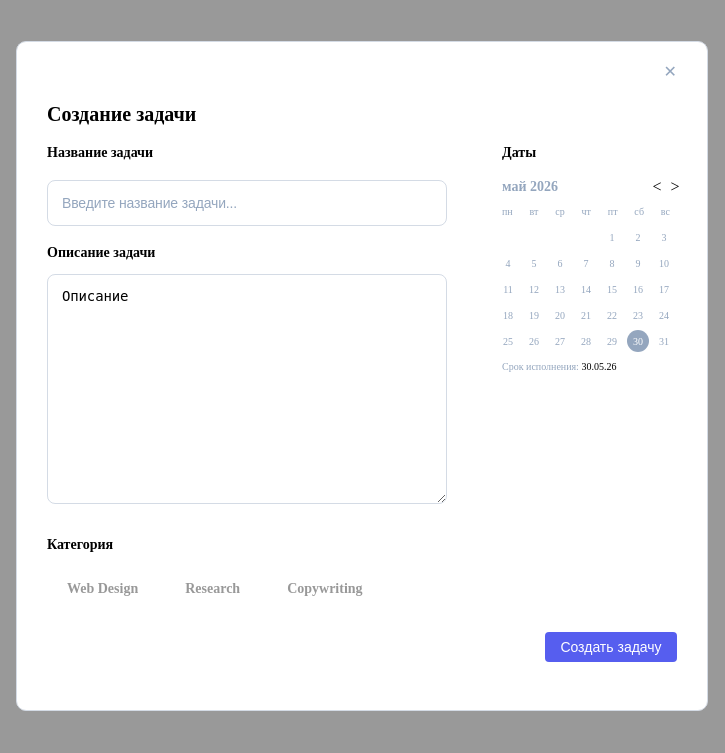
Scenario: PopNewCard — модальное окно создания задачи › показывает ошибку при отправке пустого названия
Click the button "Создать задачу" at [611, 647], box [545, 632, 677, 662]
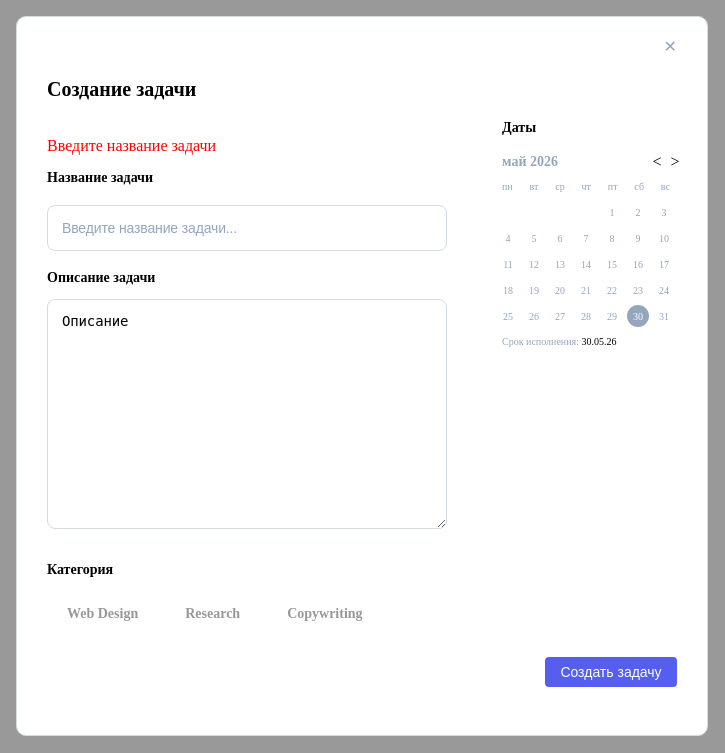
Result: the text "Введите название задачи" is shown at [47, 137, 216, 154]
